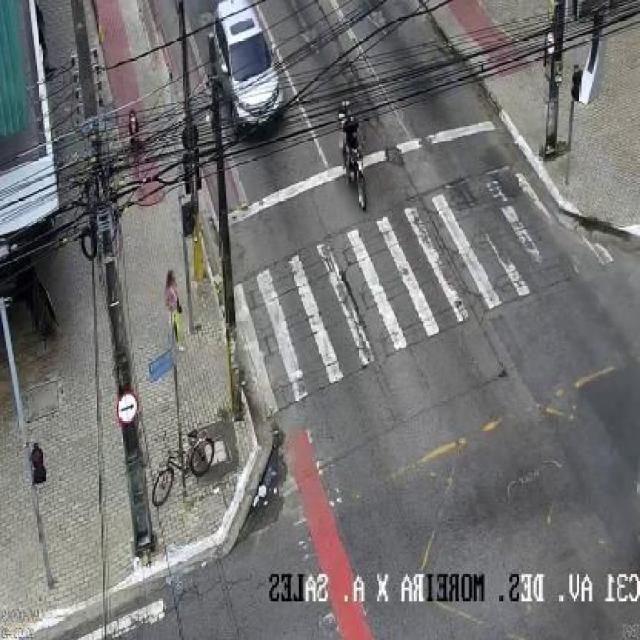Car: (203, 0, 295, 142)
Cycle: (330, 99, 380, 212)
